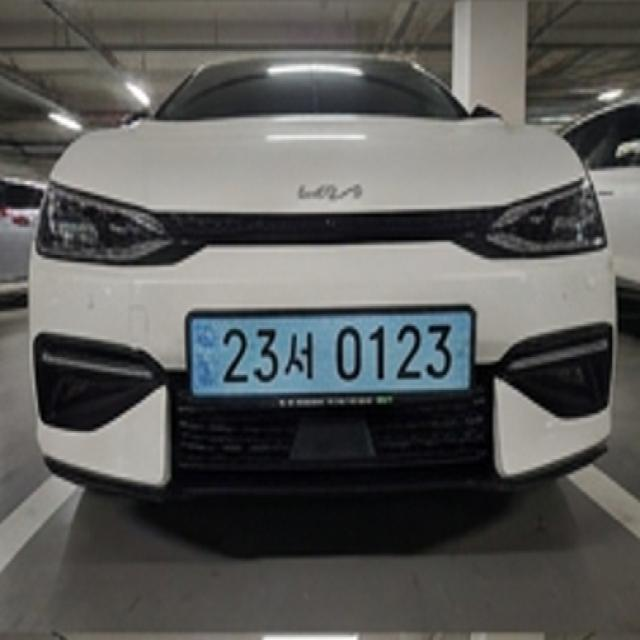car: (170, 294, 491, 412)
carev: (447, 313, 473, 391), (192, 325, 221, 394)
